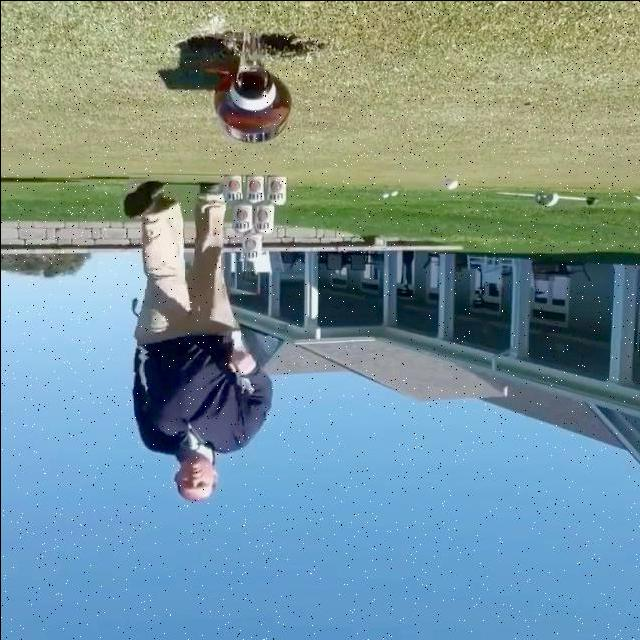ClubHead: (129, 297, 136, 311)
GolfBall: (444, 179, 458, 188), (388, 189, 397, 196), (379, 192, 386, 197)
